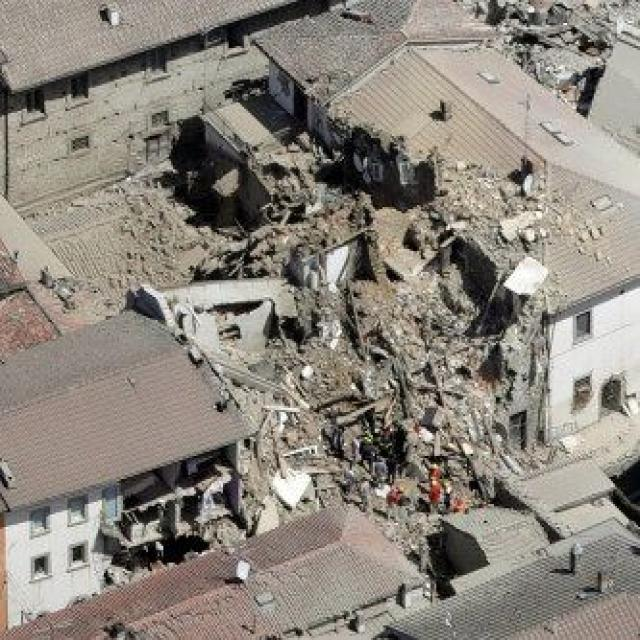collapsed_building: (213, 81, 517, 534), (390, 29, 638, 435), (0, 400, 252, 562)
